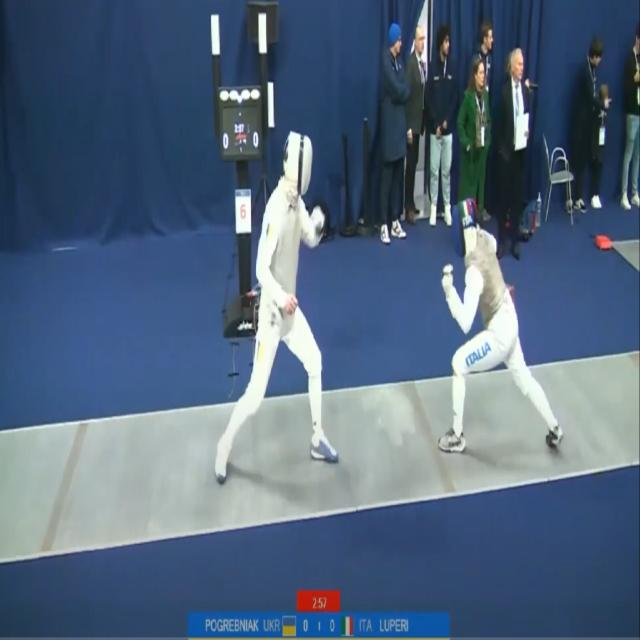fencer: (219, 134, 350, 487), (437, 201, 567, 459)
overlayLeft: (188, 614, 297, 640)
overlayRight: (340, 614, 450, 640)
scoreLeft: (302, 614, 317, 638)
scoreRight: (321, 615, 337, 637)
